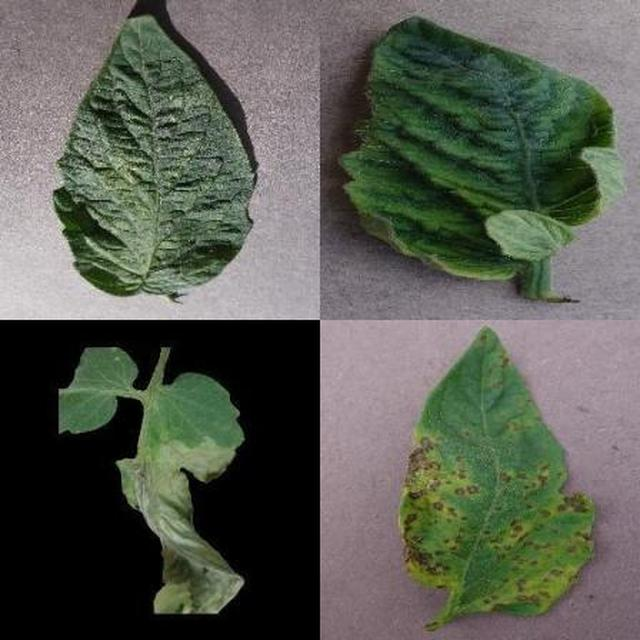Spider Mites Leaf: (183, 212, 640, 640)
